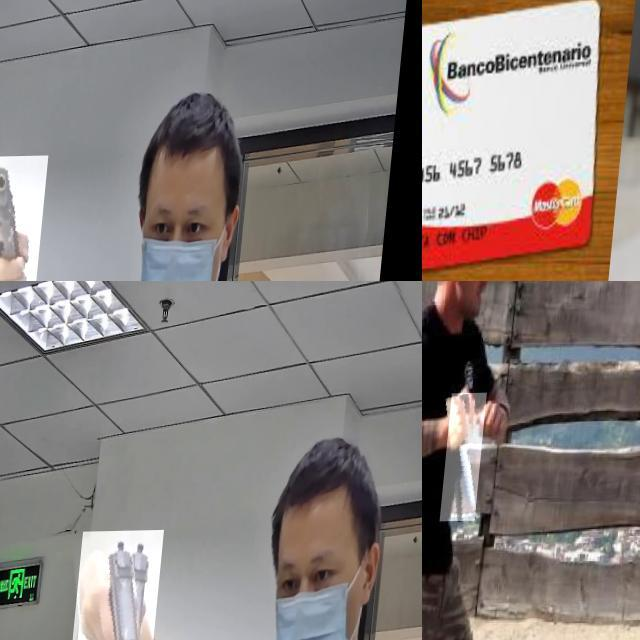-: (447, 394, 491, 524)
gun-knife-thesis - v11 Yolov5 augmented: (71, 531, 170, 640), (0, 156, 55, 281)
